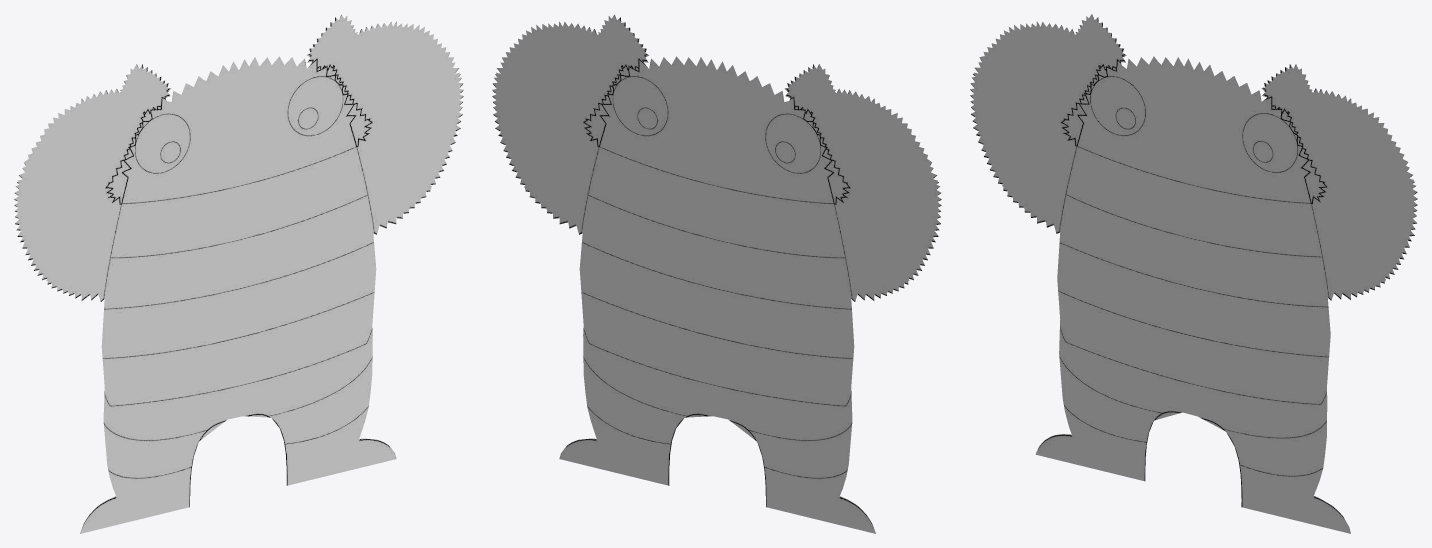
File: 29_doori_fix.fbx
The picture shows the model from 3 angles, left to right: view 1: azimuth 30°, elevation 25°; view 2: azimuth 150°, elevation 25°; view 3: azimuth 330°, elevation 25°; orthographic projection.
Parts seen in each view (by area): view 1: planarTrimmedSurface13; view 2: planarTrimmedSurface13; view 3: planarTrimmedSurface13.
Part boxes in pixels (box(x1,y1,x2,y2)): planarTrimmedSurface13: box(14, 14, 463, 533); planarTrimmedSurface13: box(492, 14, 941, 533); planarTrimmedSurface13: box(970, 14, 1417, 533).
Bounding box in the file's own units: 14.45 × 14.09 × 2.3e-06.
Materials: 1 (1 with a texture image).
